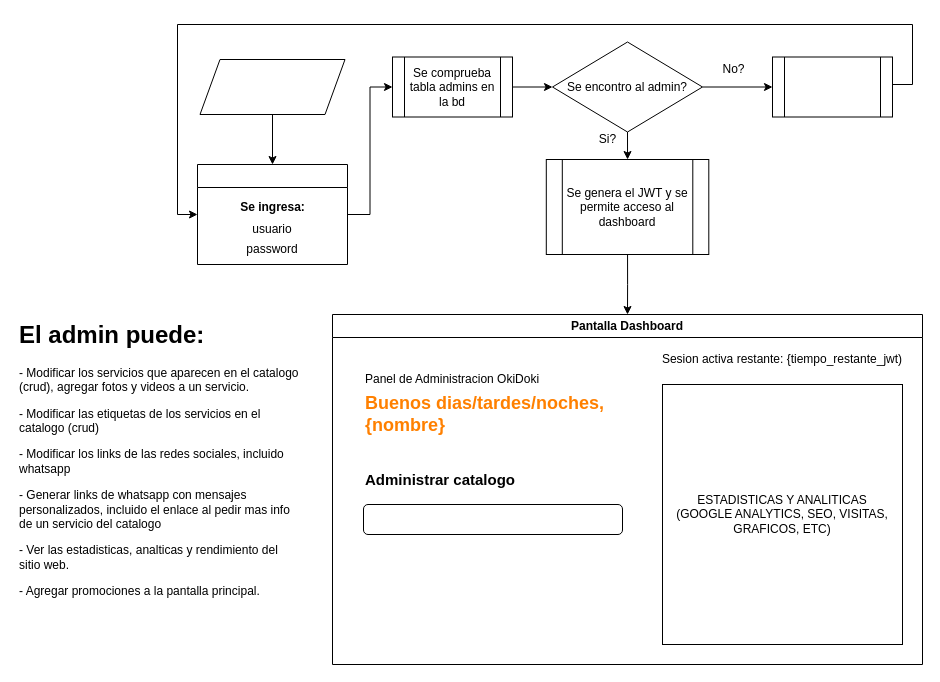
Some shapes in this 940 by 682 pixel diagram are drawn without their labels. Each missing label, with the box of its shape:
No se permite el ingreso a ningun recurso de admin: (772, 56, 892, 117)
okidokicr.com/admin: (199, 58, 345, 114)
Pantalla Login: (196, 164, 348, 264)
